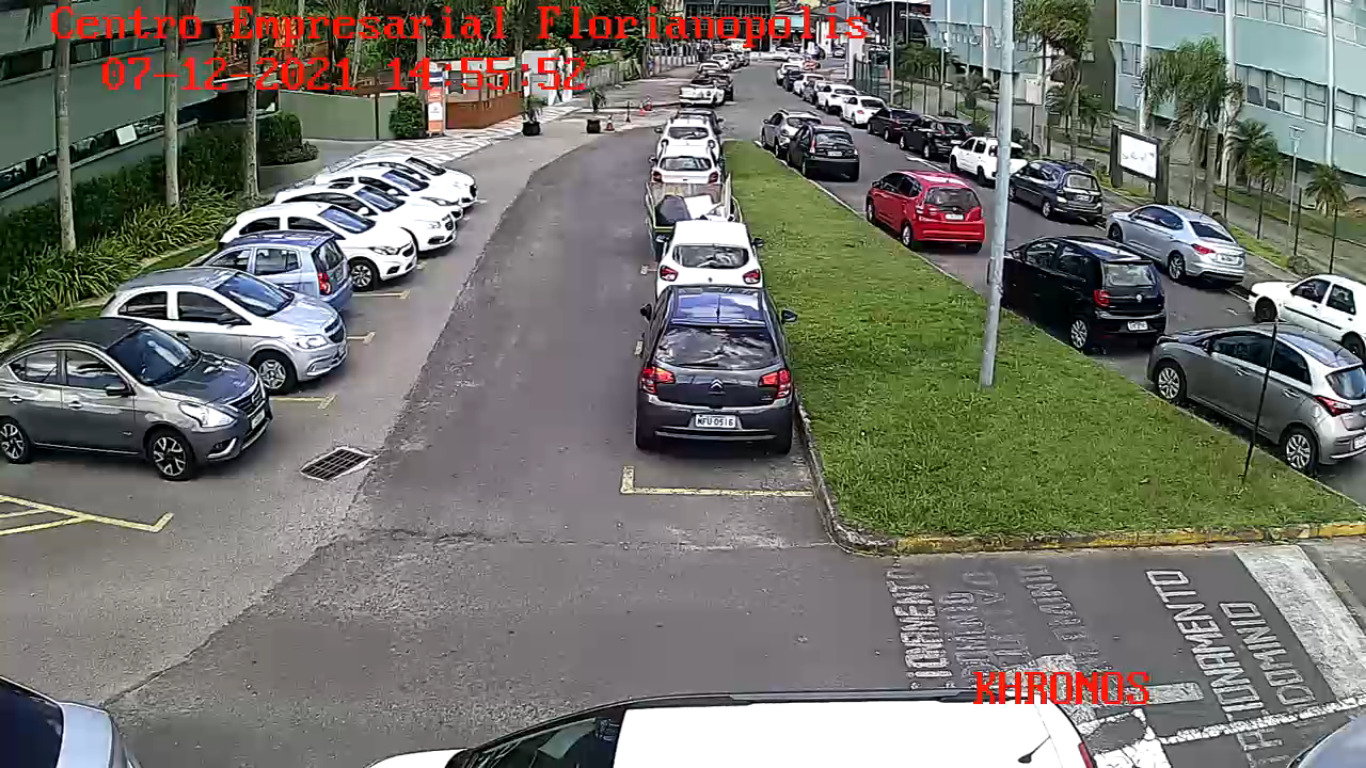car: (1, 317, 272, 480), (1147, 320, 1366, 474), (986, 236, 1166, 351), (866, 170, 986, 253)
